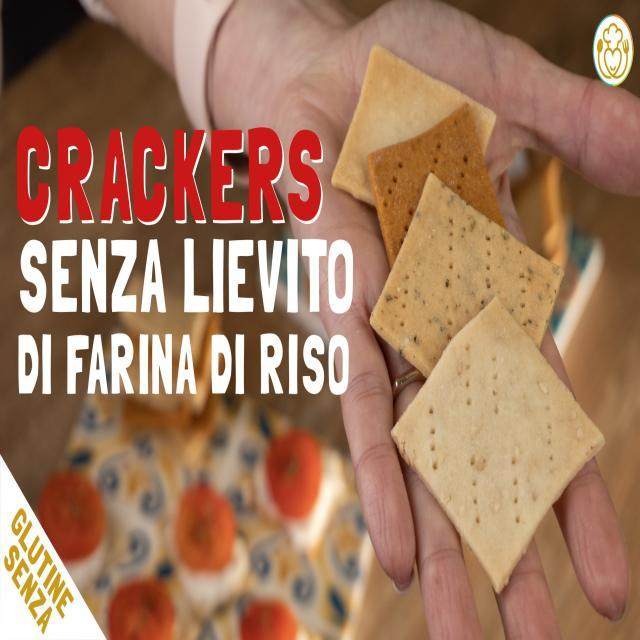Cracker: (397, 299, 614, 588), (378, 174, 569, 392), (367, 111, 521, 287)
